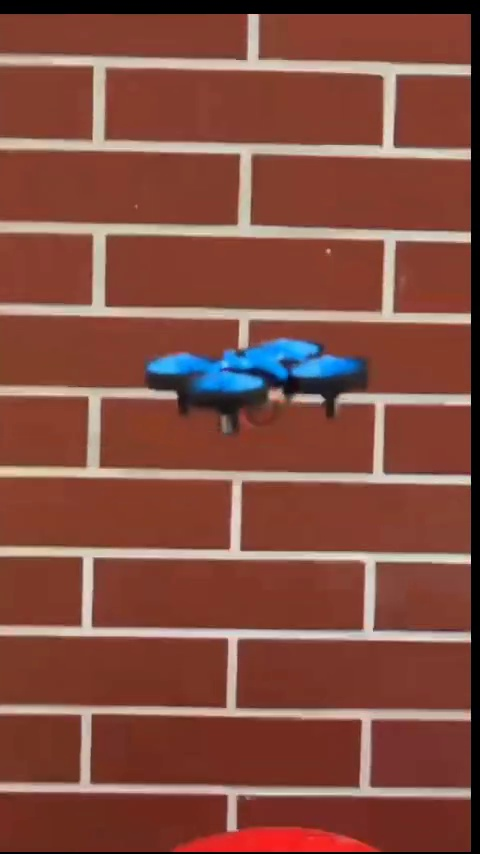drone: (159, 344, 365, 423)
